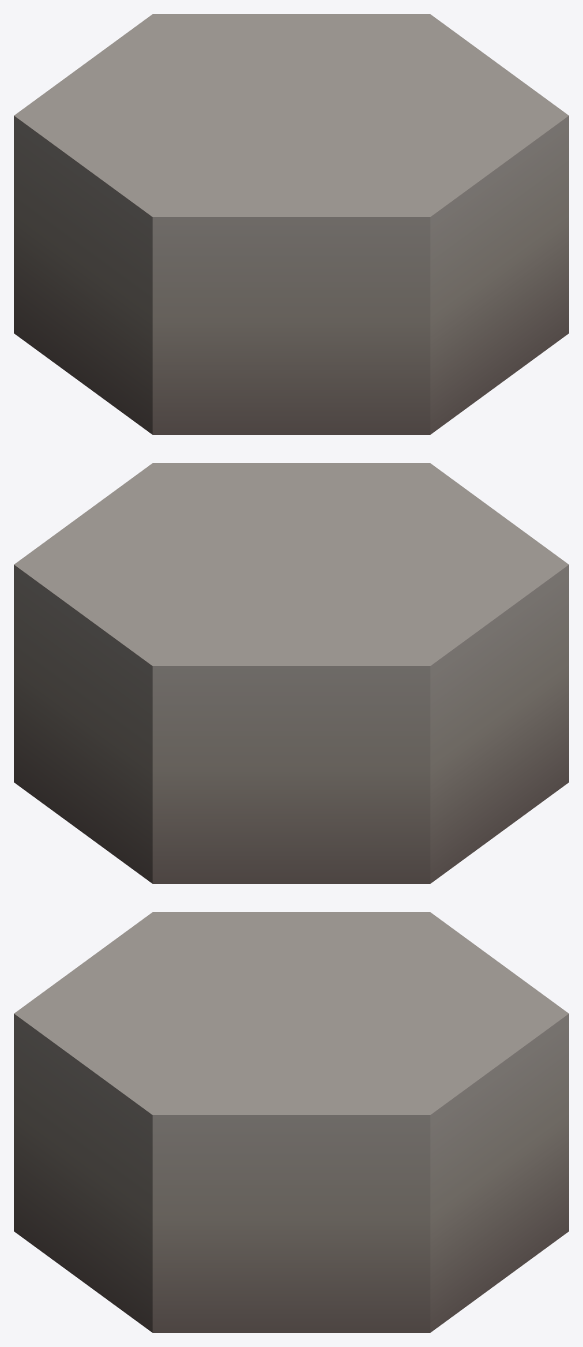
Rendered from hex_grass_bottom.glb.
The picture shows the model from 3 angles, top to bottom: view 1: azimuth 30°, elevation 25°; view 2: azimuth 150°, elevation 25°; view 3: azimuth 270°, elevation 25°; orthographic projection.
Visible parts, largest first — view 1: hex_grass_bottom; view 2: hex_grass_bottom; view 3: hex_grass_bottom.
Boxes of the visible parts, <box> form: hex_grass_bottom: <box>14,14,568,434</box>; hex_grass_bottom: <box>14,463,568,883</box>; hex_grass_bottom: <box>14,912,568,1332</box>.
Size of the model in its own units: 2 by 1 by 2.31.
Materials: 1 (1 with a texture image).
